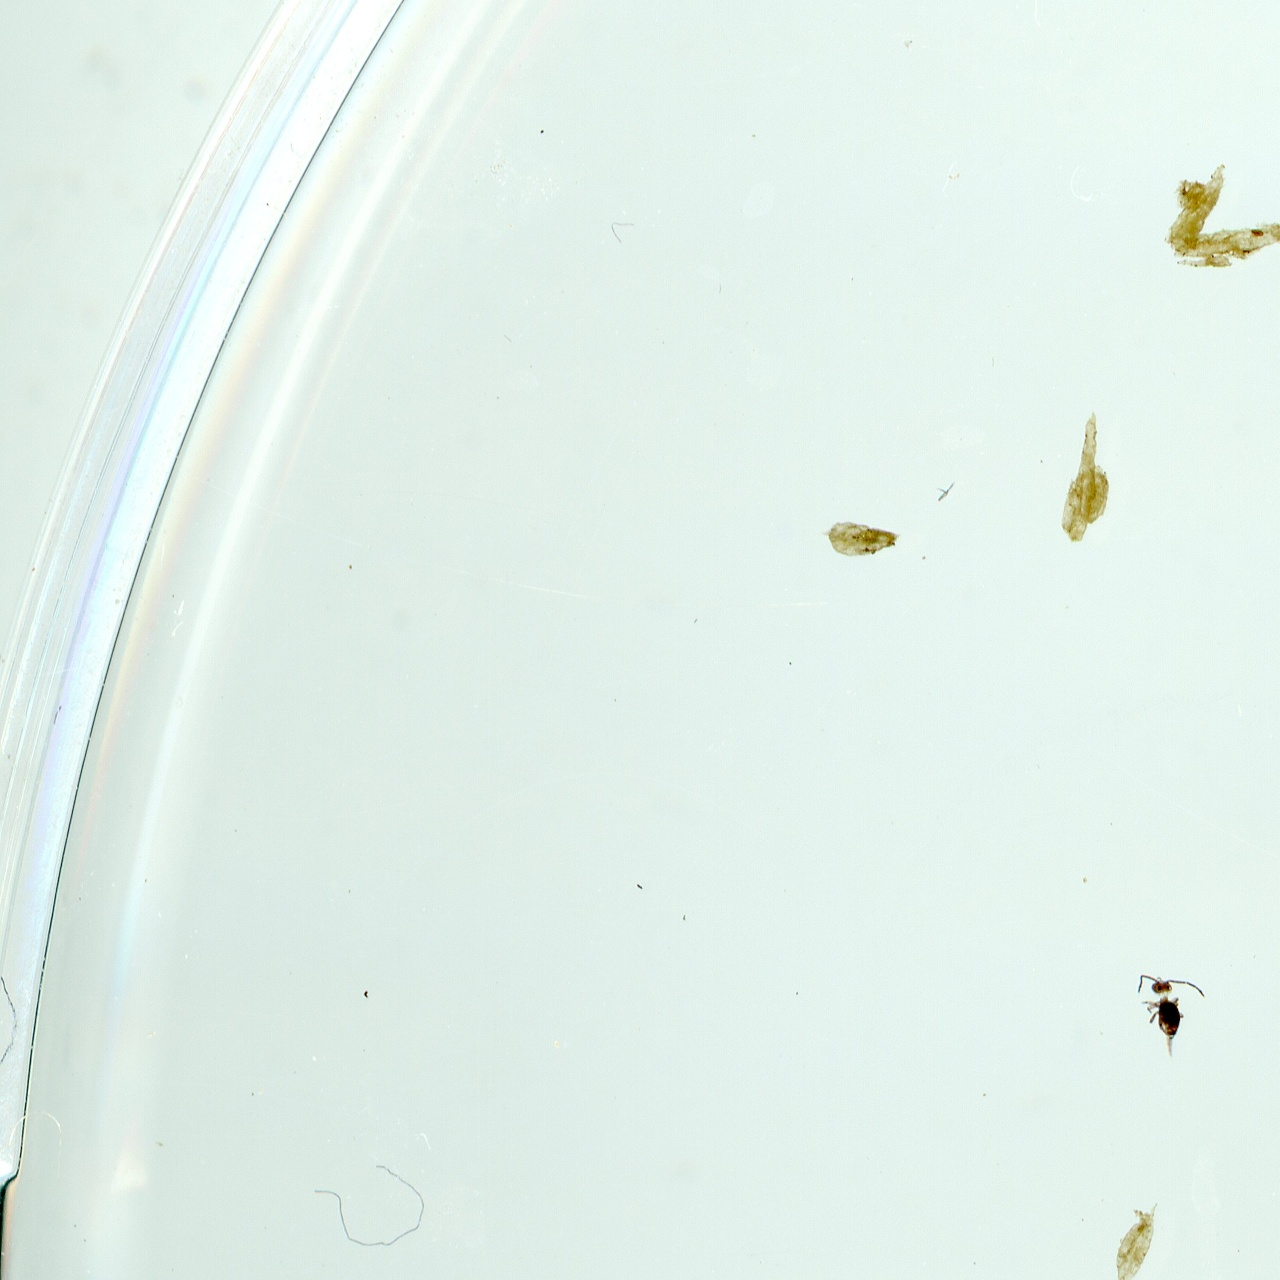arthropod: (1132, 968, 1209, 1061)
